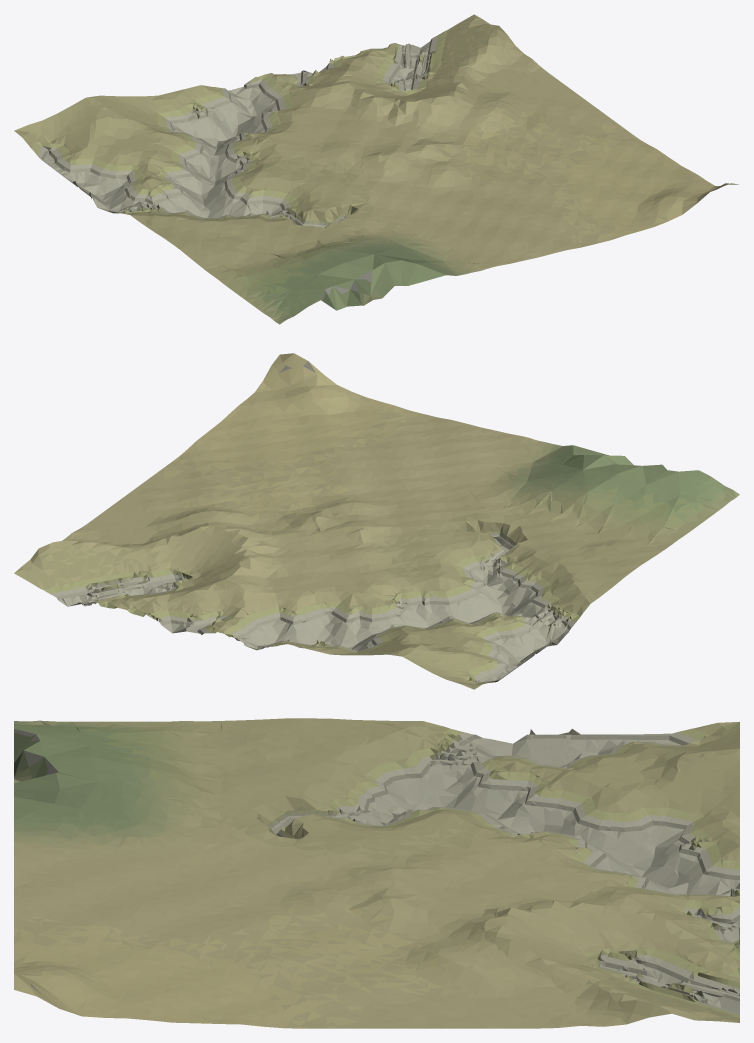
The model's file is Ground_0_-1.glb.
3 renders of one model, top to bottom at view 1: azimuth 30°, elevation 25°; view 2: azimuth 150°, elevation 25°; view 3: azimuth 270°, elevation 25°, orthographic. The views are drawn at different scales.
Visible parts, largest first — view 1: Ground_0_-1; view 2: Ground_0_-1; view 3: Ground_0_-1.
Boxes of the visible parts, x1,y1,x2,y2 form: Ground_0_-1: (14, 14, 738, 324); Ground_0_-1: (14, 353, 739, 689); Ground_0_-1: (14, 718, 739, 1028).
Size of the model in its own units: 768 by 99.38 by 768.
